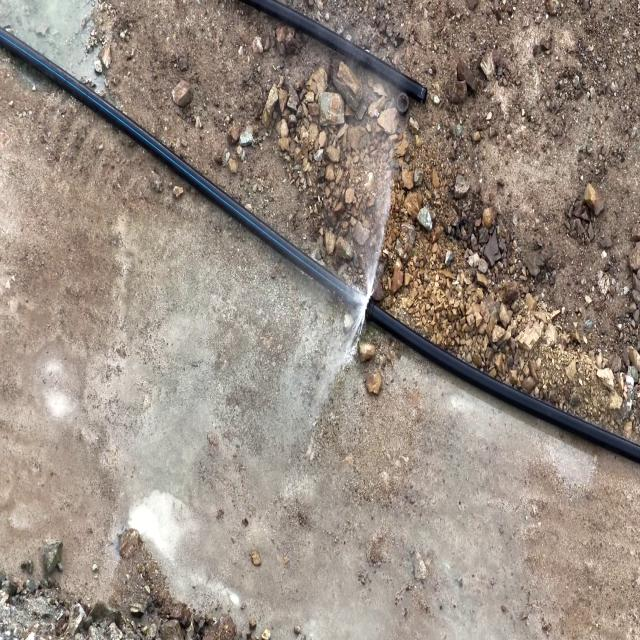leak: (335, 155, 397, 372)
